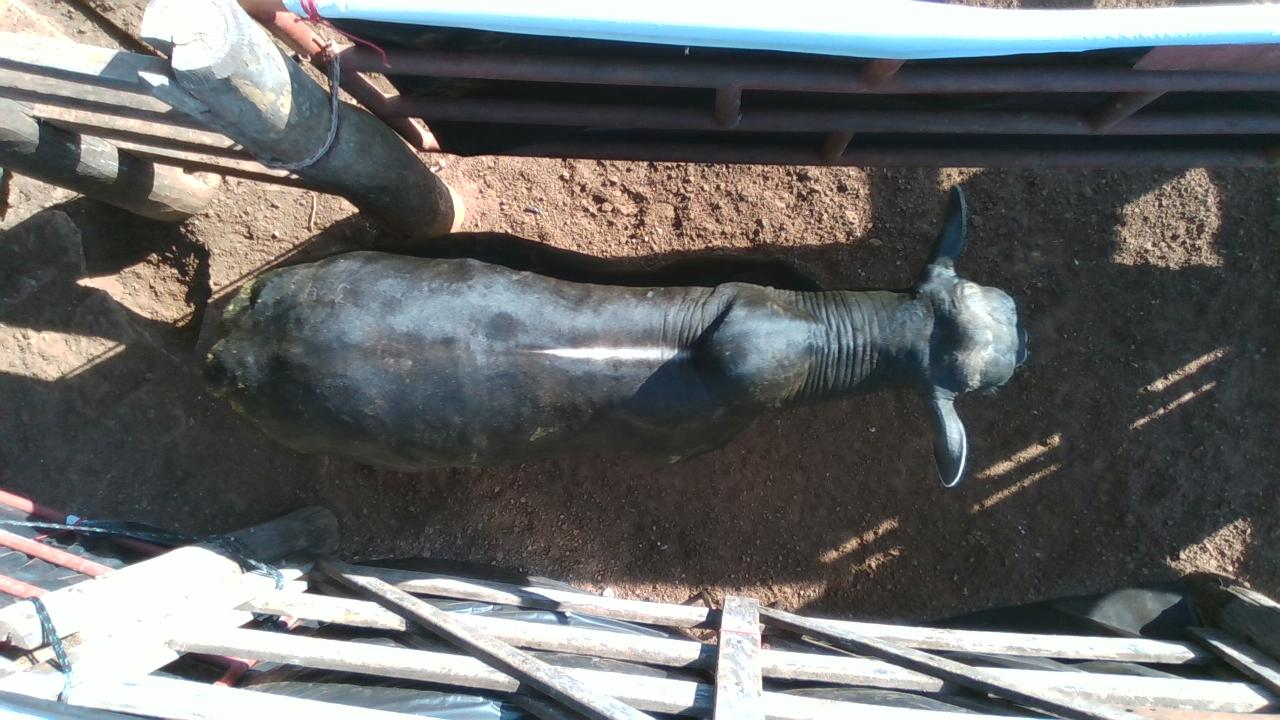cattle: (196, 182, 1027, 488)
